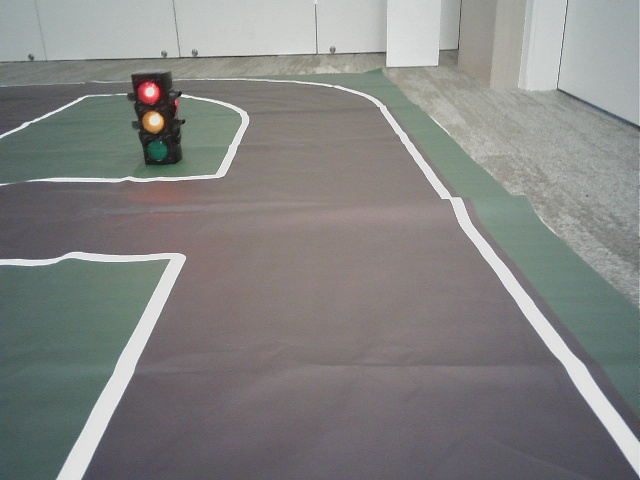red: (133, 75, 174, 162)
